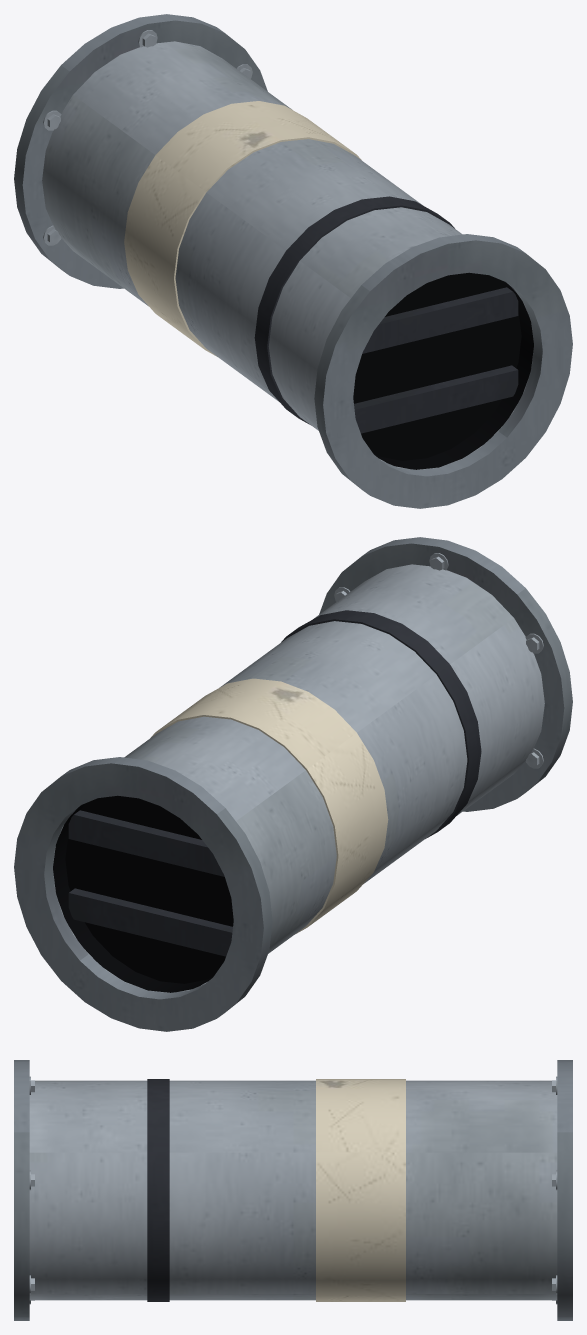
File: metal_tube.glb
3 renders of one model, top to bottom at view 1: azimuth 30°, elevation 25°; view 2: azimuth 150°, elevation 25°; view 3: azimuth 270°, elevation 25°, orthographic. The views are drawn at different scales.
Visible parts, largest first — view 1: Body.006; view 2: Body.006; view 3: Body.006.
Boxes of the visible parts, <box> form: Body.006: <box>14,14,572,508</box>; Body.006: <box>14,537,572,1031</box>; Body.006: <box>14,1060,572,1320</box>.
Size of the model in its own units: 0.232 by 0.232 by 0.497.
5 materials, 4 textured.
